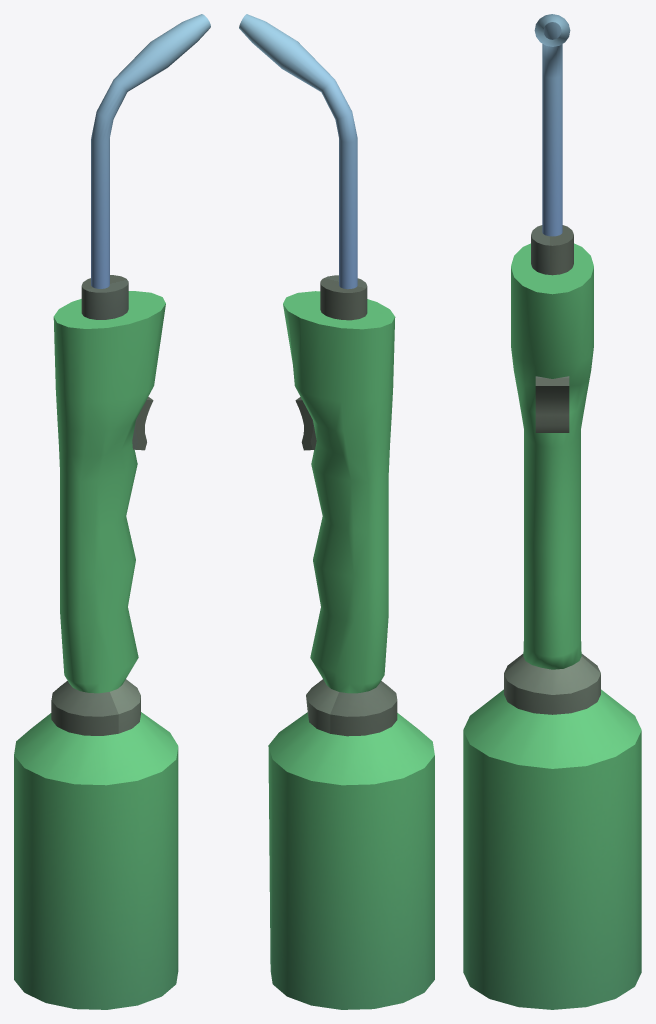
Rendered from welder.fbx.
The picture shows the model from 3 angles, left to right: view 1: azimuth 30°, elevation 25°; view 2: azimuth 150°, elevation 25°; view 3: azimuth 270°, elevation 25°; orthographic projection. The views are drawn at different scales.
Parts seen in each view (by area): view 1: blowtorch:pCylinder6, blowtorch:pCube1; view 2: blowtorch:pCylinder6, blowtorch:pCube1; view 3: blowtorch:pCylinder6, blowtorch:pCube1.
Part boxes in pixels (box(x1,y1,x2,y2)): blowtorch:pCylinder6: box(14, 14, 210, 1009); blowtorch:pCube1: box(132, 397, 153, 450); blowtorch:pCylinder6: box(239, 14, 434, 1009); blowtorch:pCube1: box(295, 397, 316, 450); blowtorch:pCylinder6: box(463, 14, 641, 1009); blowtorch:pCube1: box(535, 376, 569, 432).
Bounding box in the file's own units: 22.45 × 109 × 17.56.
